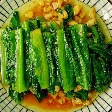youmaicai: (1, 10, 112, 102)
